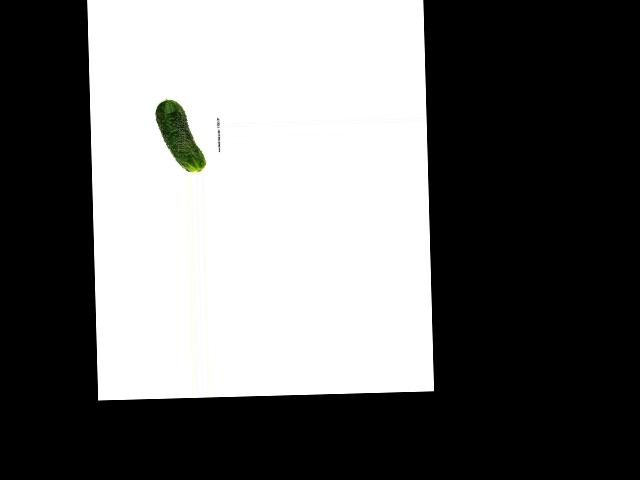cucumber: (155, 98, 206, 172)
